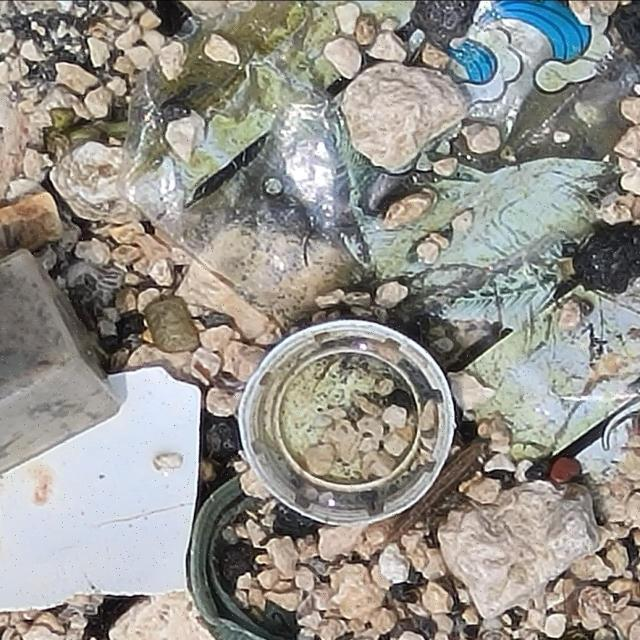plastic_waste: (238, 319, 461, 526)
